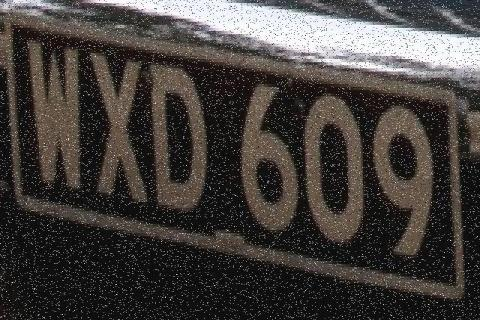LicensePlate: (5, 11, 465, 300)
